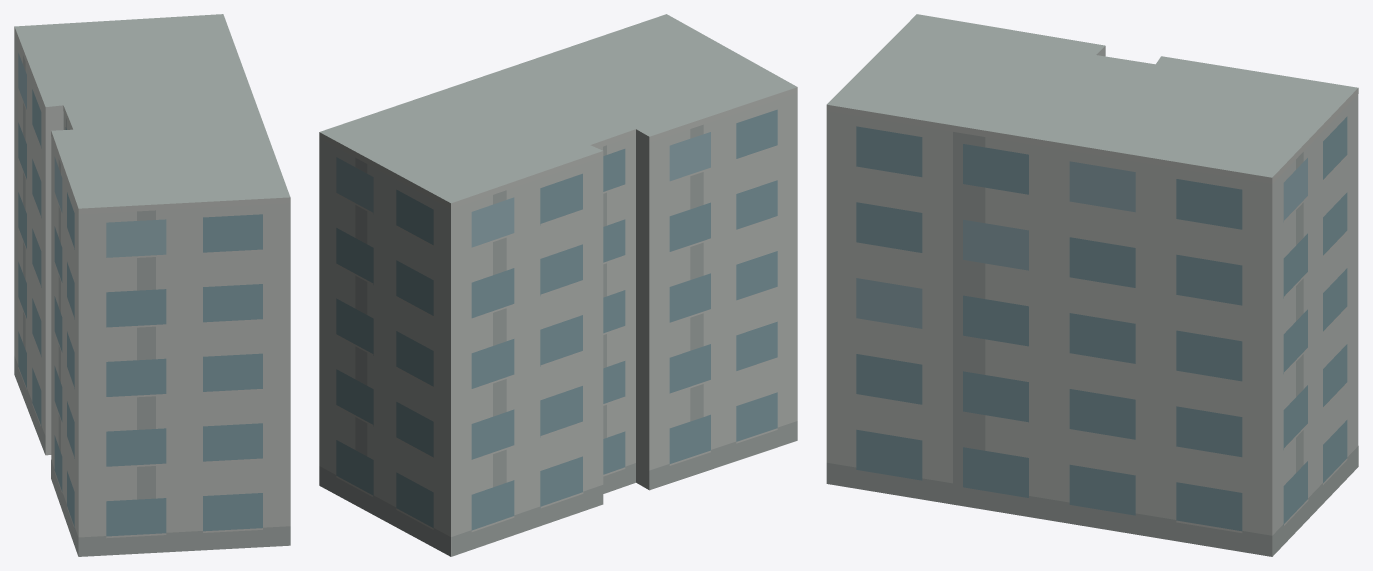
File: survey-upis-32616486.glb
The picture shows the model from 3 angles, left to right: view 1: azimuth 30°, elevation 25°; view 2: azimuth 150°, elevation 25°; view 3: azimuth 270°, elevation 25°; orthographic projection. The views are drawn at different scales.
Parts seen in each view (by area): view 1: survey-upis-32616486.tmp; view 2: survey-upis-32616486.tmp; view 3: survey-upis-32616486.tmp.
Part boxes in pixels (bbox=[...]): survey-upis-32616486.tmp: bbox=[14, 14, 290, 556]; survey-upis-32616486.tmp: bbox=[319, 14, 797, 556]; survey-upis-32616486.tmp: bbox=[826, 14, 1358, 556].
Size of the model in its own units: 13.34 by 14.4 by 18.31.
